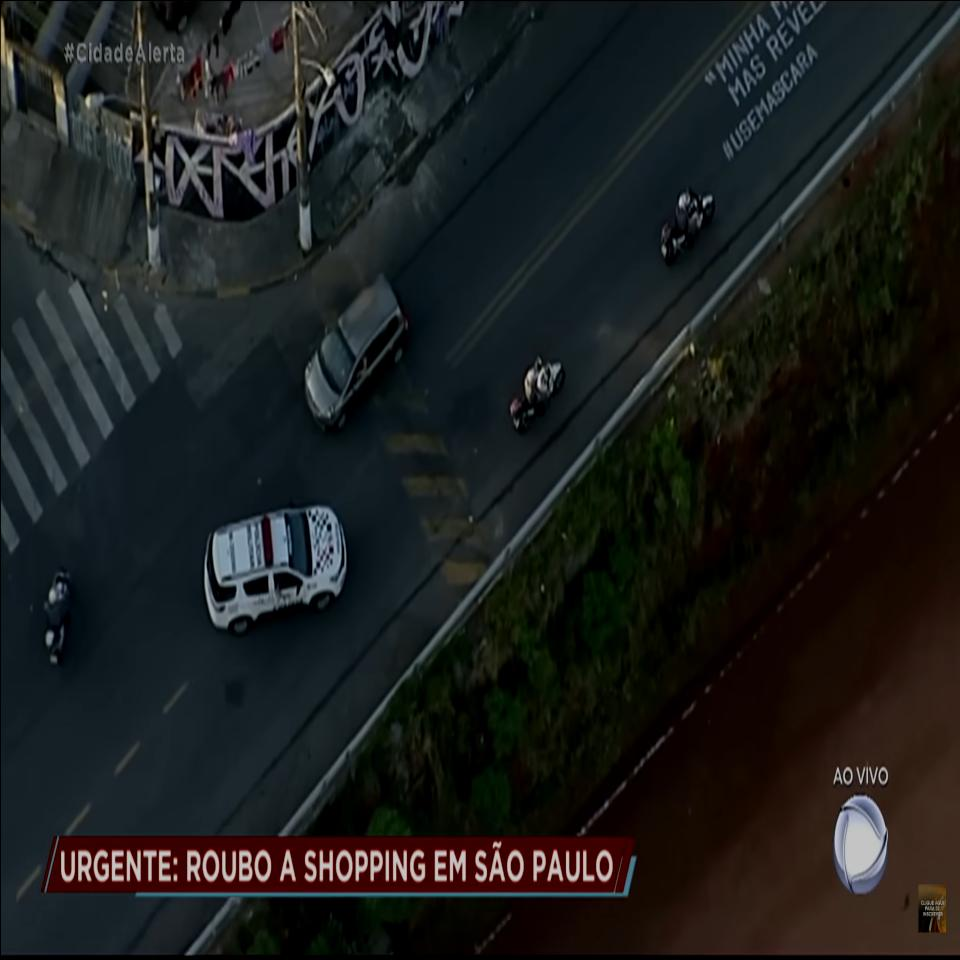viatura: (201, 492, 350, 638)
